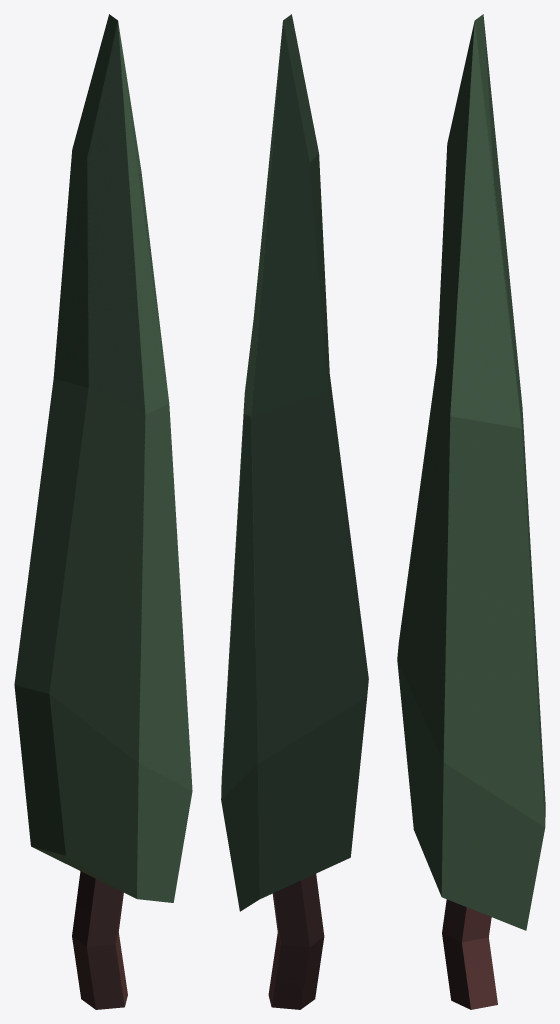
The model's file is Cypress2.obj.
3 views of the same model, side by side, from view 1: azimuth 30°, elevation 25°; view 2: azimuth 150°, elevation 25°; view 3: azimuth 330°, elevation 25° (orthographic).
Visible parts, largest first — view 1: Cypress2; view 2: Cypress2; view 3: Cypress2.
Part boxes in pixels (x1=…): Cypress2: x1=14, y1=14, x2=192, y2=1009; Cypress2: x1=221, y1=14, x2=368, y2=1009; Cypress2: x1=397, y1=14, x2=545, y2=1009.
Bounding box in the file's own units: 2.06 × 11.97 × 1.44.
1 material, 1 textured.
